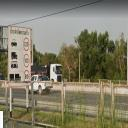speed_limit_100: (23, 52, 31, 68)
speed_limit_120: (23, 35, 30, 52)
speed_limit_80: (23, 69, 31, 84)
